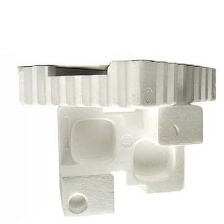foam_box: (51, 101, 208, 222), (12, 55, 220, 113)
